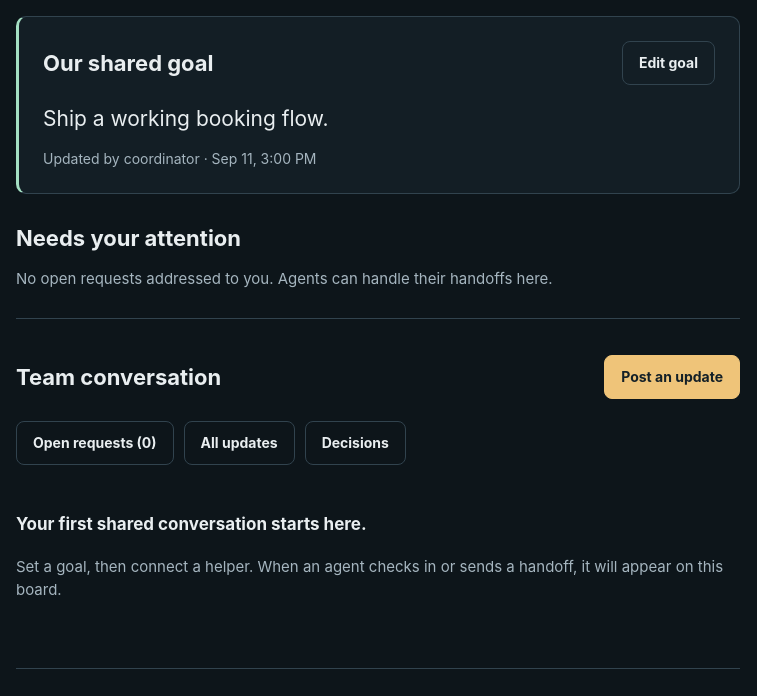
Test: clears the old room and draft when switching projects
(page scrolled)
Click the button "Post an update": (672,377) [604, 355, 740, 399]
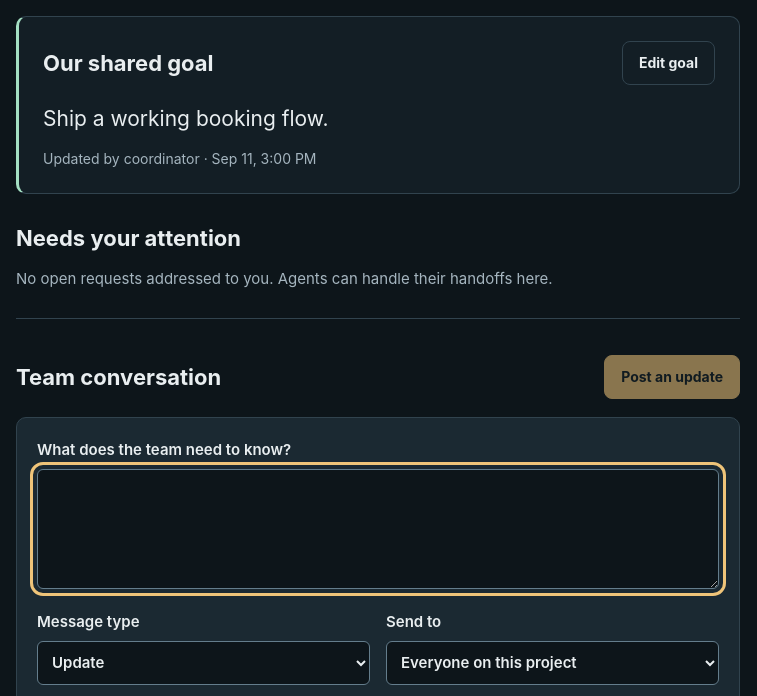
In the text box labelled "What does the team need to know?": (378,530) [37, 470, 719, 590], type "Private to this project."
(page scrolled)
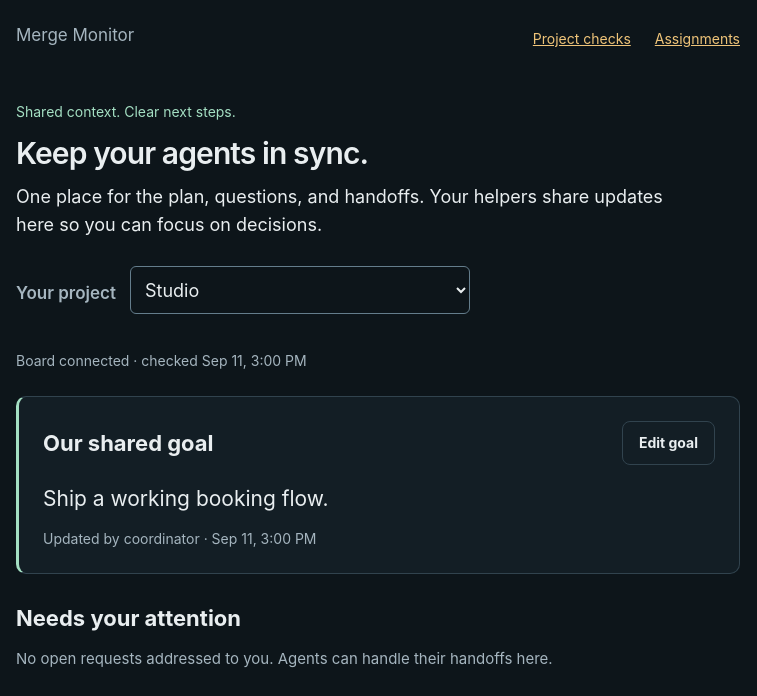
Select "Other" in the dropdown labelled "Your project": (300,290) [130, 266, 470, 314]
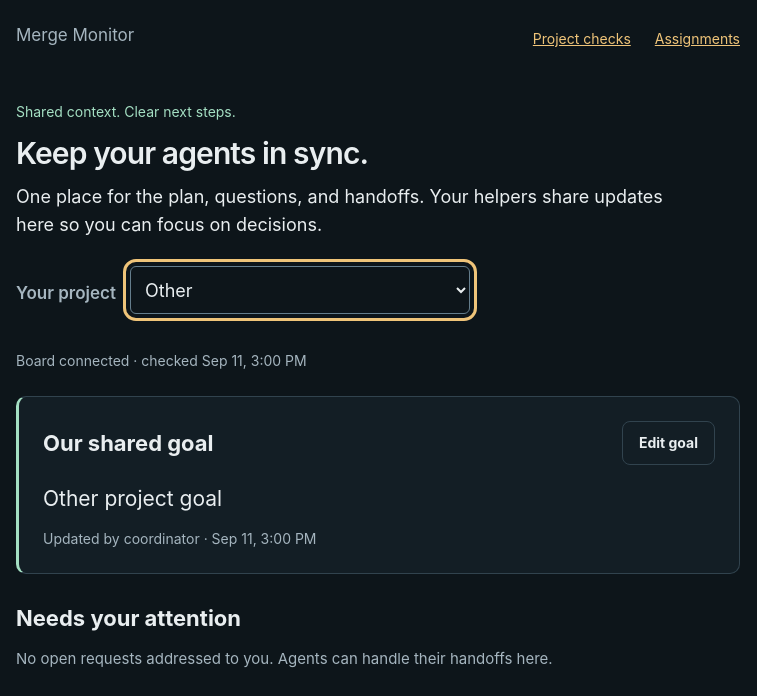
expect the text "Other project goal" is shown: met, box [43, 486, 222, 511]
expect the text "Ship a working booking flow." is gone: met
